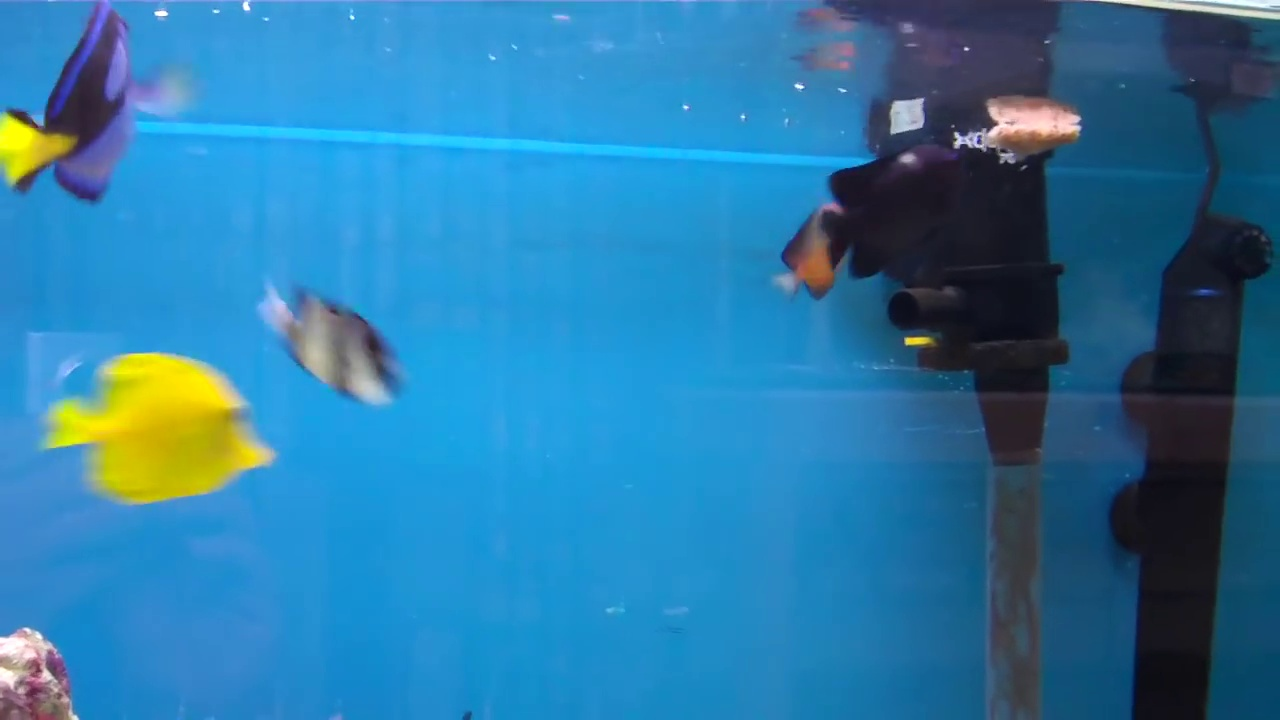blue tang surgeonfish: (0, 0, 161, 211)
saddle butterfly fish: (38, 339, 293, 525)
